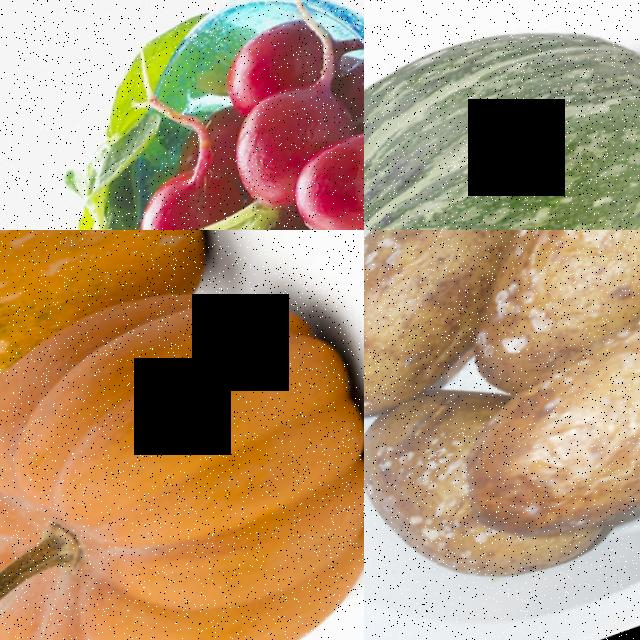potato: (441, 230, 640, 566), (364, 230, 528, 445), (364, 381, 521, 600), (465, 230, 640, 348)
pumpkin: (0, 230, 364, 640), (364, 0, 640, 230), (0, 230, 240, 405)
radishes: (26, 0, 364, 230)
